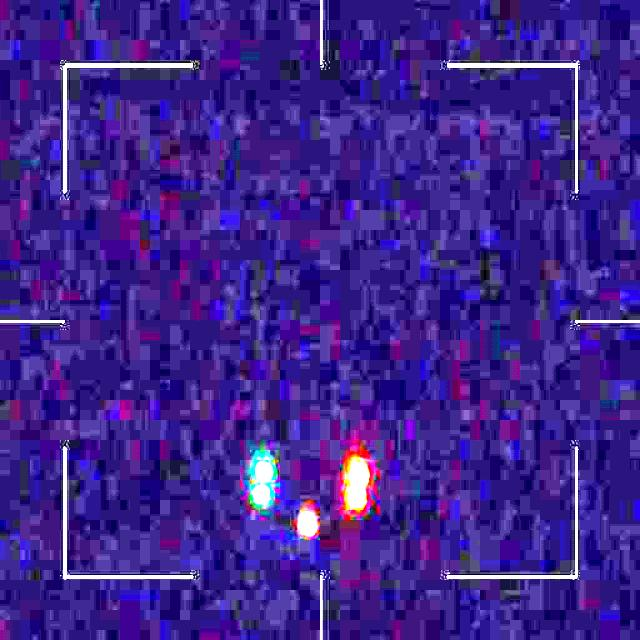bird: (252, 452, 370, 538)
